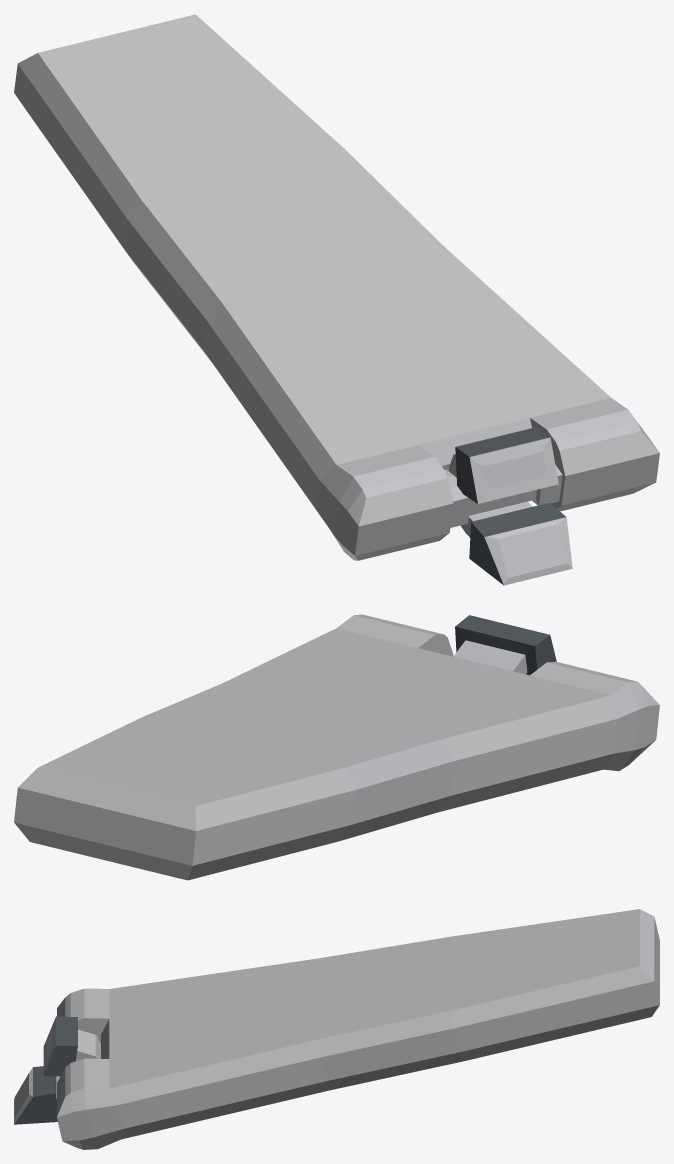
The model's file is Fighter_04_Flap_Right.fbx.
3 renders of one model, top to bottom at view 1: azimuth 30°, elevation 25°; view 2: azimuth 150°, elevation 25°; view 3: azimuth 270°, elevation 25°, orthographic. The views are drawn at different scales.
Visible parts, largest first — view 1: Fighter_04_Flap_Right; view 2: Fighter_04_Flap_Right; view 3: Fighter_04_Flap_Right.
Part boxes in pixels (x1,y1,x2,y2): Fighter_04_Flap_Right: (14,14,659,585); Fighter_04_Flap_Right: (14,614,659,880); Fighter_04_Flap_Right: (14,909,659,1149).
Size of the model in its own units: 116 by 86.18 by 289.
1 material, 1 textured.
